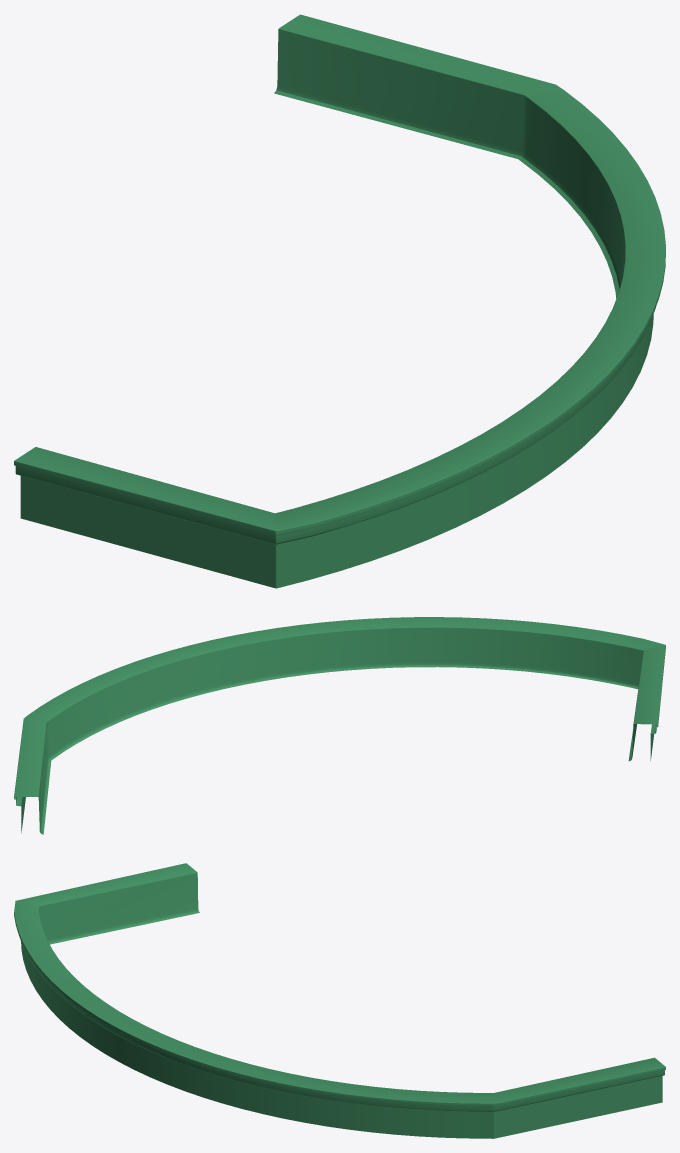
The model's file is GS_Ext_Roof_Trim_Curve.fbx.
3 renders of one model, top to bottom at view 1: azimuth 30°, elevation 25°; view 2: azimuth 150°, elevation 25°; view 3: azimuth 270°, elevation 25°, orthographic. The views are drawn at different scales.
Parts seen in each view (by area): view 1: GS_Ext_Roof_Trim_Curve; view 2: GS_Ext_Roof_Trim_Curve; view 3: GS_Ext_Roof_Trim_Curve.
Part boxes in pixels (x1,y1,x2,y2): GS_Ext_Roof_Trim_Curve: [14, 14, 665, 588]; GS_Ext_Roof_Trim_Curve: [14, 617, 665, 834]; GS_Ext_Roof_Trim_Curve: [14, 863, 665, 1138].
Bounding box in the file's own units: 751 × 56 × 861.
